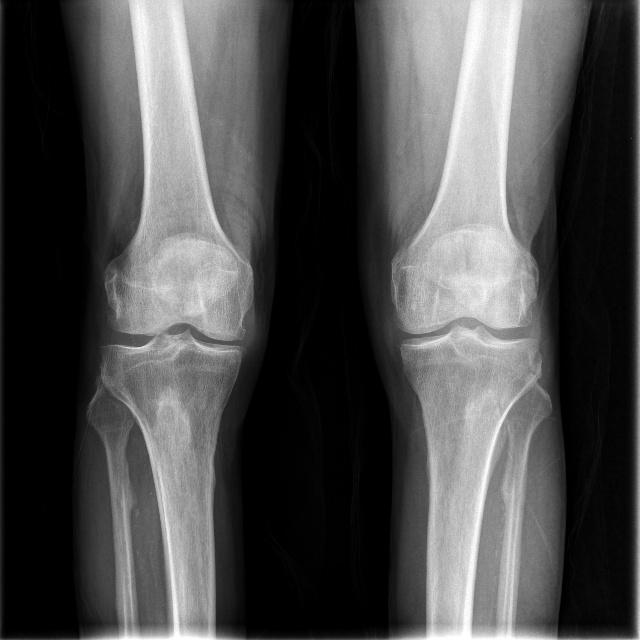Knee: (93, 266, 253, 399), (387, 265, 543, 390)
